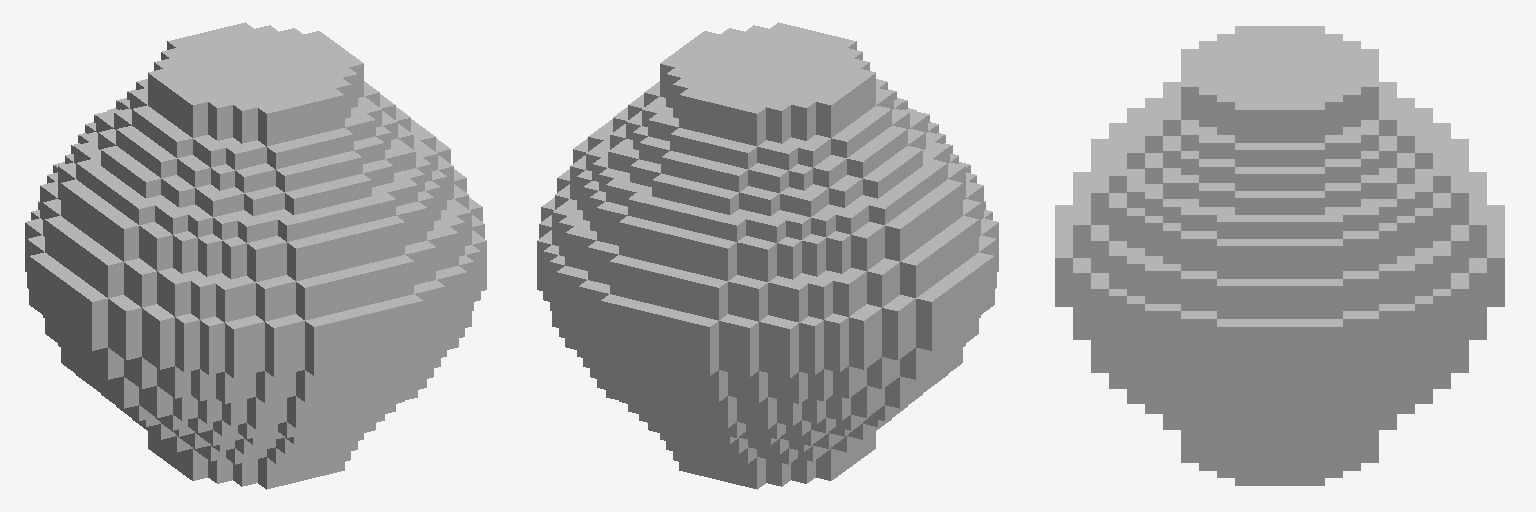
Rendered from tyoutinn ver2..2vox.obj.
The picture shows the model from 3 angles: view 1: azimuth 30°, elevation 25°; view 2: azimuth 150°, elevation 25°; view 3: azimuth 270°, elevation 25°; orthographic projection.
Visible parts, largest first — view 1: object 1; view 2: object 1; view 3: object 1.
Boxes of the visible parts, box(x1,y1,x2,y2) form: object 1: box(25, 22, 486, 489); object 1: box(537, 22, 998, 489); object 1: box(1055, 26, 1504, 485).
Size of the model in its own units: 2.5 by 2.3 by 2.5.